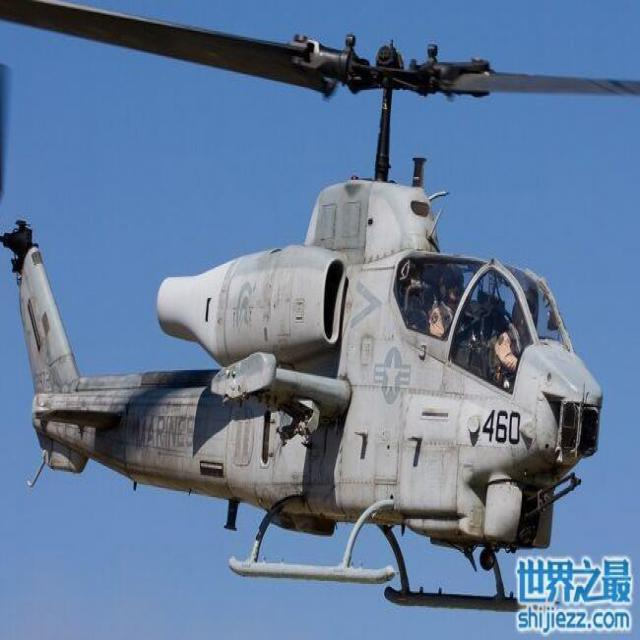MIL_HELO: (0, 0, 627, 608)
